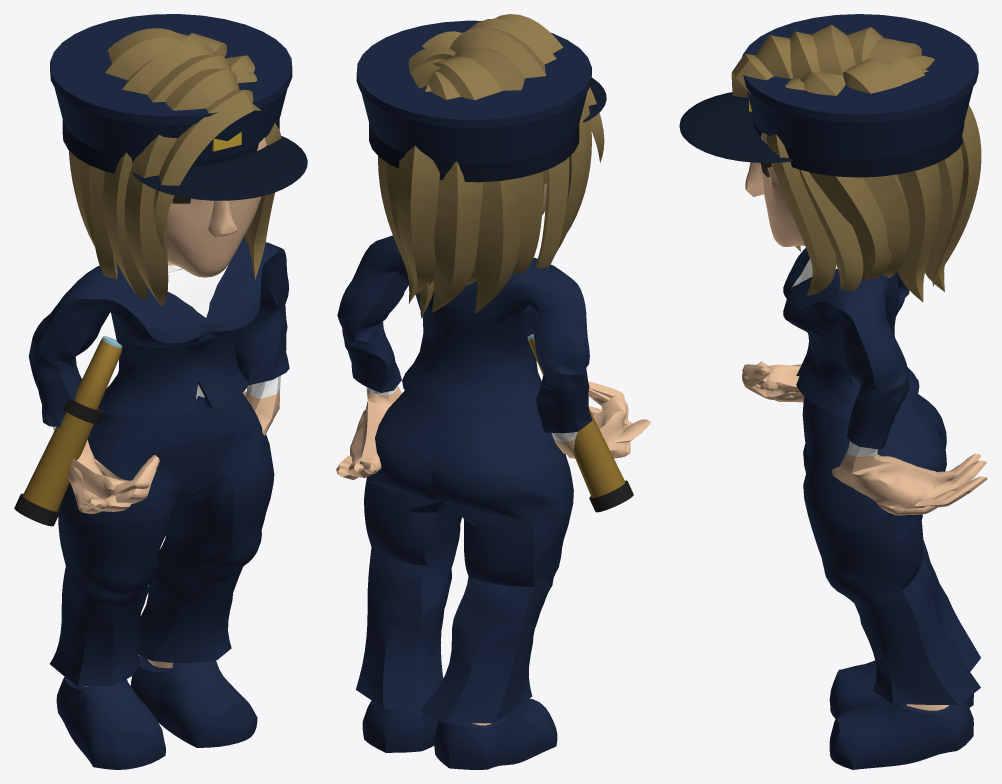
File: av-capita-nautica.glb
3 renders of one model, left to right at view 1: azimuth 30°, elevation 25°; view 2: azimuth 150°, elevation 25°; view 3: azimuth 270°, elevation 25°, orthographic. The views are drawn at different scales.
Parts seen in each view (by area): view 1: Ad_luneta_1_0; view 2: Ad_luneta_1_0; view 3: Ad_luneta_1_0.
Boxes of the visible parts, x1,y1,x2,y2 form: Ad_luneta_1_0: (14,14,307,769); Ad_luneta_1_0: (336,14,650,769); Ad_luneta_1_0: (679,14,987,769).
Bounding box in the file's own units: 0.5563 × 1.34 × 0.5344.
Materials: 1 (1 with a texture image).
